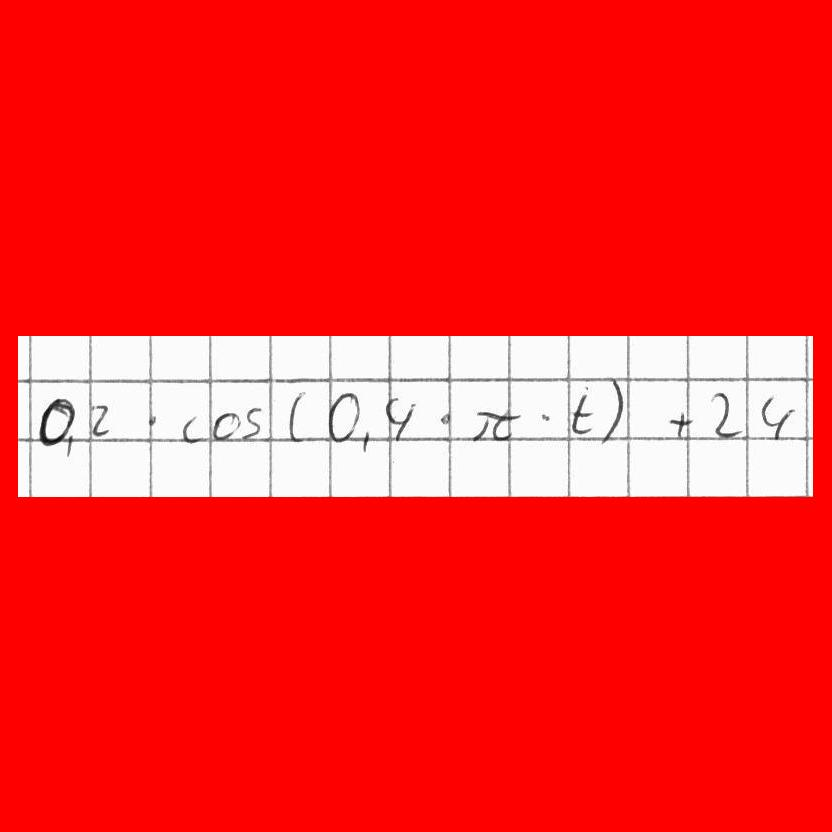Char: (465, 404, 522, 443), (325, 387, 362, 443), (34, 395, 75, 445), (563, 383, 598, 439), (757, 392, 797, 440), (708, 389, 746, 439), (600, 375, 626, 447), (386, 393, 416, 441), (666, 406, 702, 440), (284, 388, 306, 442), (90, 400, 117, 440), (212, 409, 241, 442), (180, 411, 204, 445), (241, 405, 262, 439), (359, 427, 372, 454), (143, 411, 160, 430), (439, 410, 455, 427), (537, 408, 555, 423), (67, 434, 79, 452)
